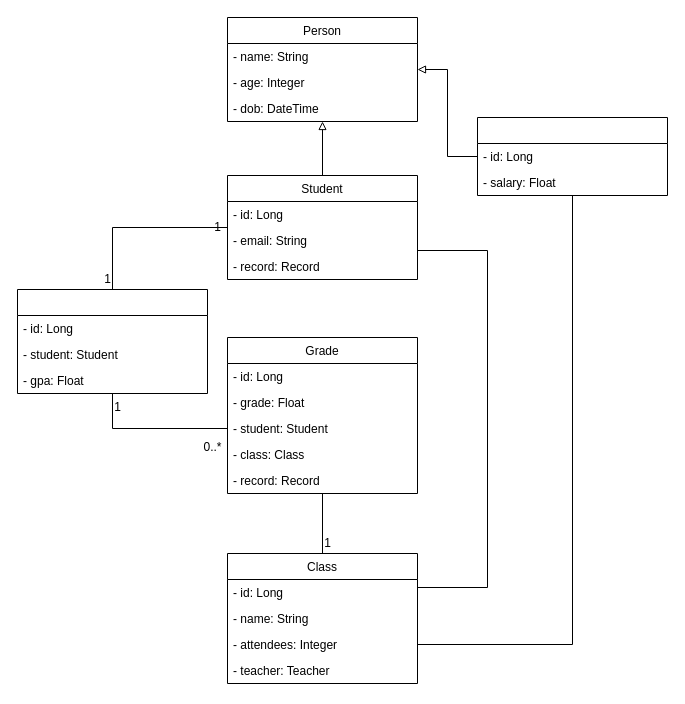
Image size: 685x704. Some labels were removed from this diagram. The box of each missing label's shape, as (x1, y1, x2, y2) in pixels:
Record: (16, 288, 208, 394)
Teacher: (476, 116, 668, 196)
